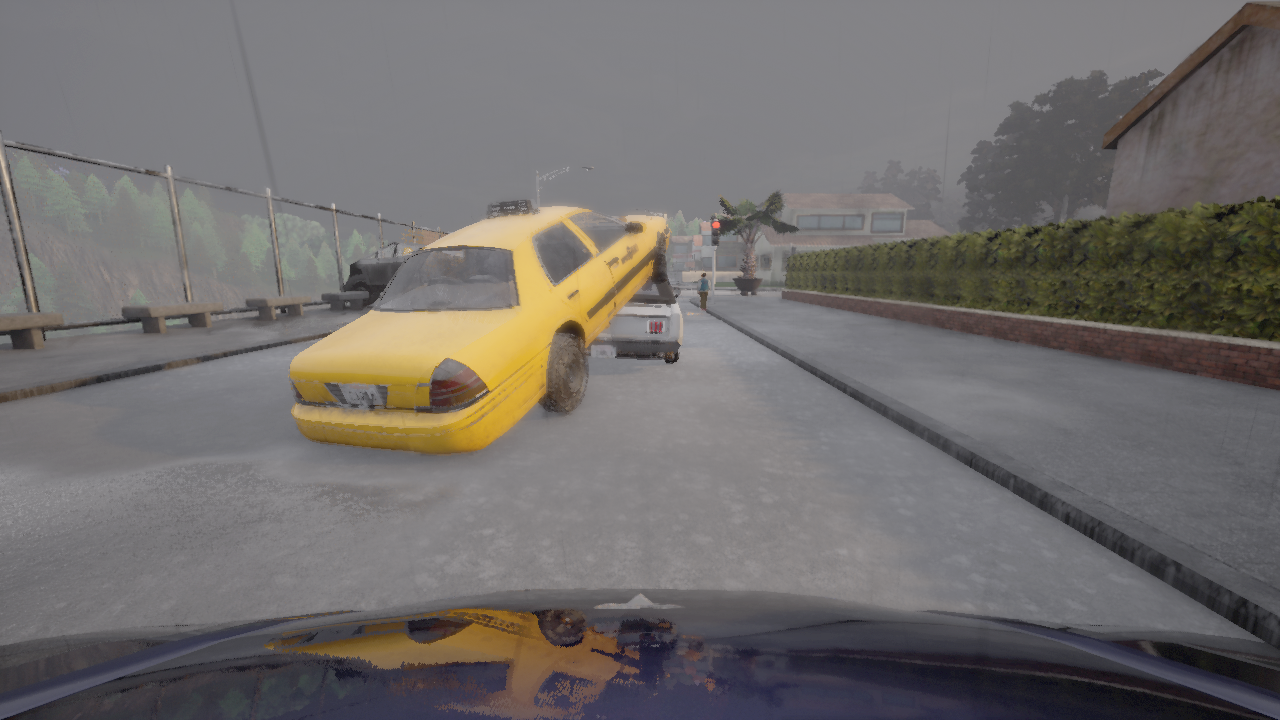cyclist: (0, 588, 1279, 719), (288, 200, 670, 454), (586, 278, 683, 362), (344, 242, 430, 306)
pedestrian: (698, 272, 710, 310)
